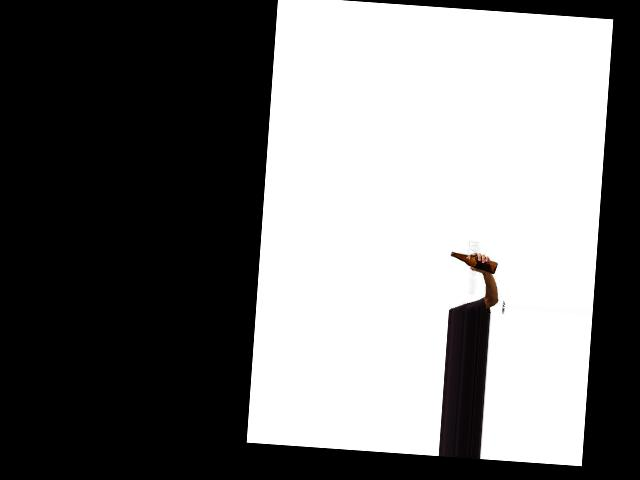beer: (449, 251, 498, 274)
